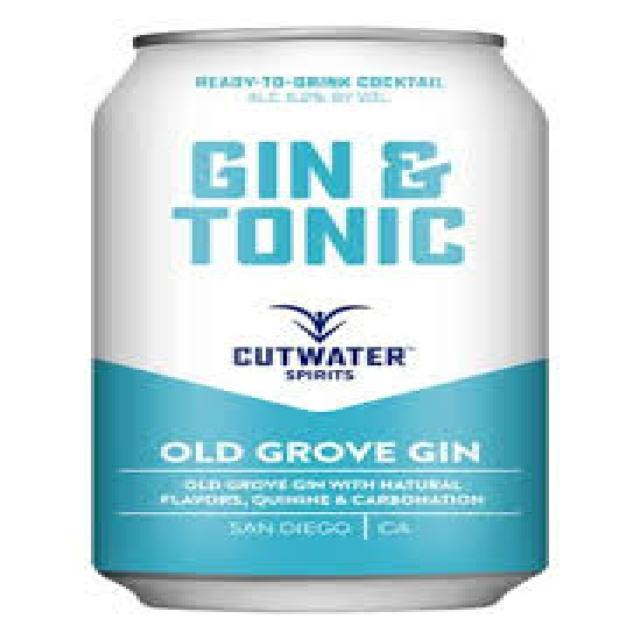Cans: (70, 14, 567, 619)
